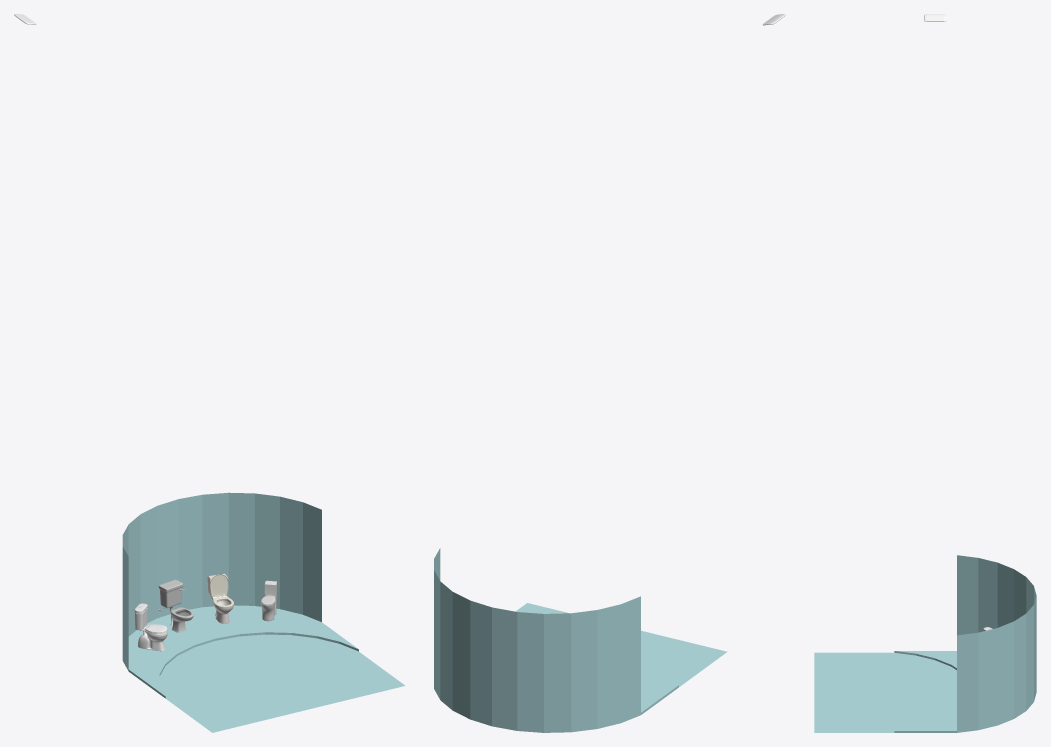
File: commode.gltf
The picture shows the model from 3 angles, left to right: view 1: azimuth 30°, elevation 25°; view 2: azimuth 150°, elevation 25°; view 3: azimuth 270°, elevation 25°; orthographic projection. The views are drawn at different scales.
Visible parts, largest first — view 1: Cylinder, Plane.156_Plane.197, Lavatory pan N220122, 10778_Toilet_V2; view 2: Cylinder; view 3: Cylinder.
Part boxes in pixels (x1=…): Cylinder: x1=122, y1=492, x2=405, y2=732; Plane.156_Plane.197: x1=158, y1=579, x2=193, y2=632; Lavatory pan N220122: x1=134, y1=603, x2=167, y2=651; 10778_Toilet_V2: x1=207, y1=573, x2=233, y2=623; Cylinder: x1=434, y1=548, x2=727, y2=732; Cylinder: x1=814, y1=555, x2=1036, y2=732.
Size of the model in its own units: 40.59 by 85.22 by 29.14.
Materials: 8 (1 with a texture image).
